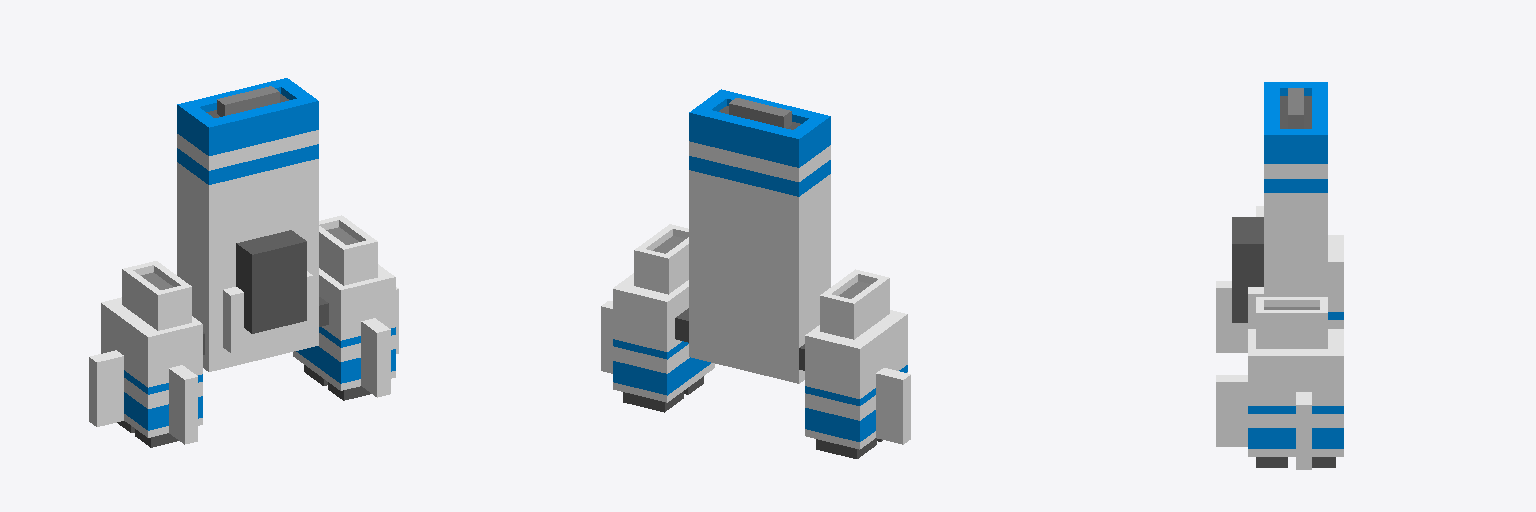
3 views of the same model, side by side, from view 1: azimuth 30°, elevation 25°; view 2: azimuth 150°, elevation 25°; view 3: azimuth 270°, elevation 25° (orthographic).
Bounding box in the file's own units: 44 × 43 × 16.
1 materials, 1 textured.